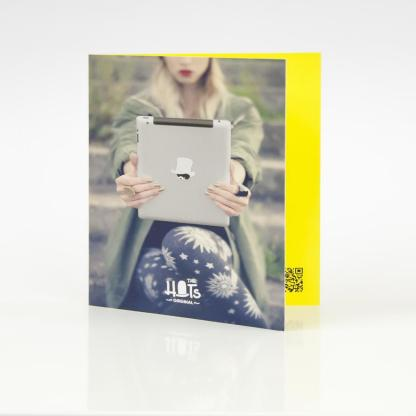board: (133, 115, 233, 229)
